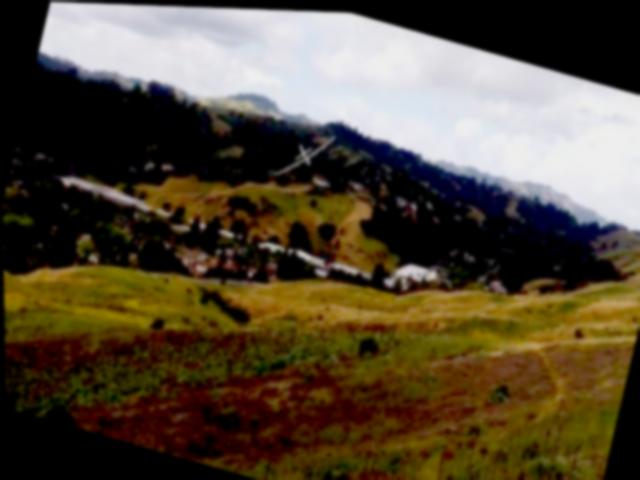iha: (275, 121, 336, 191)
